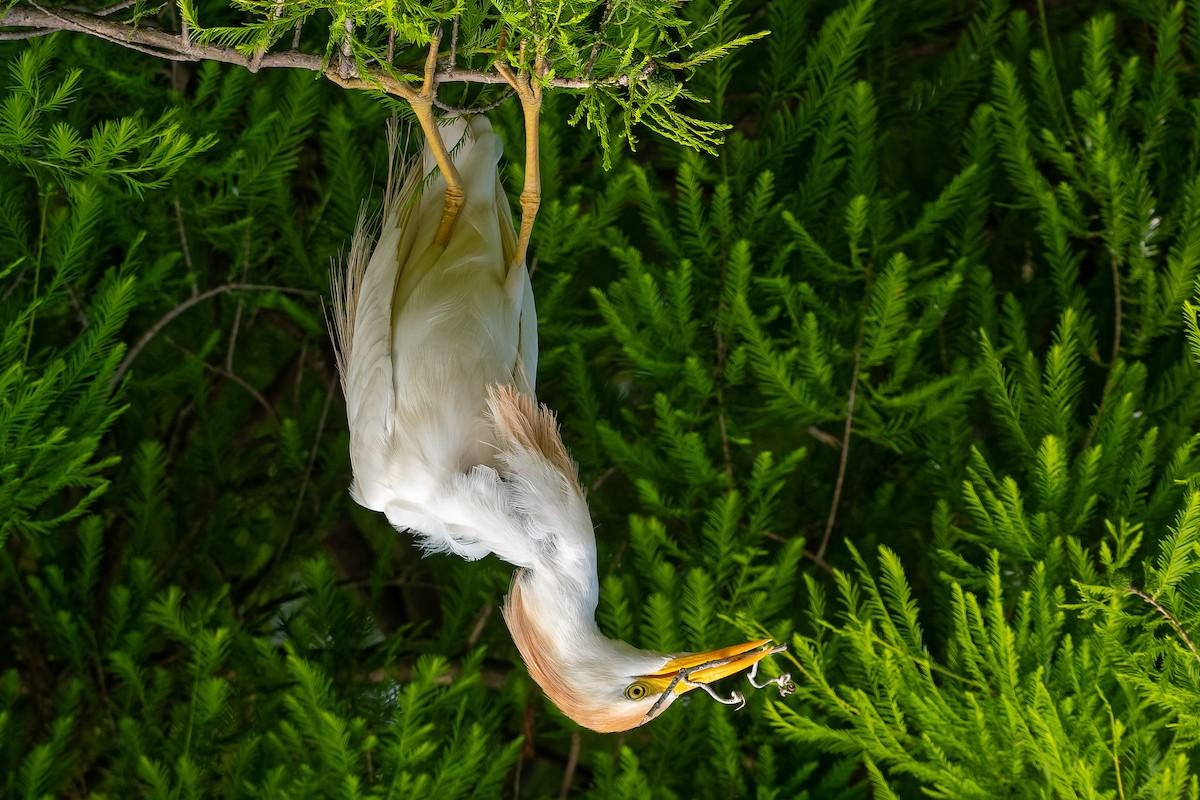egret: (273, 35, 803, 731)
